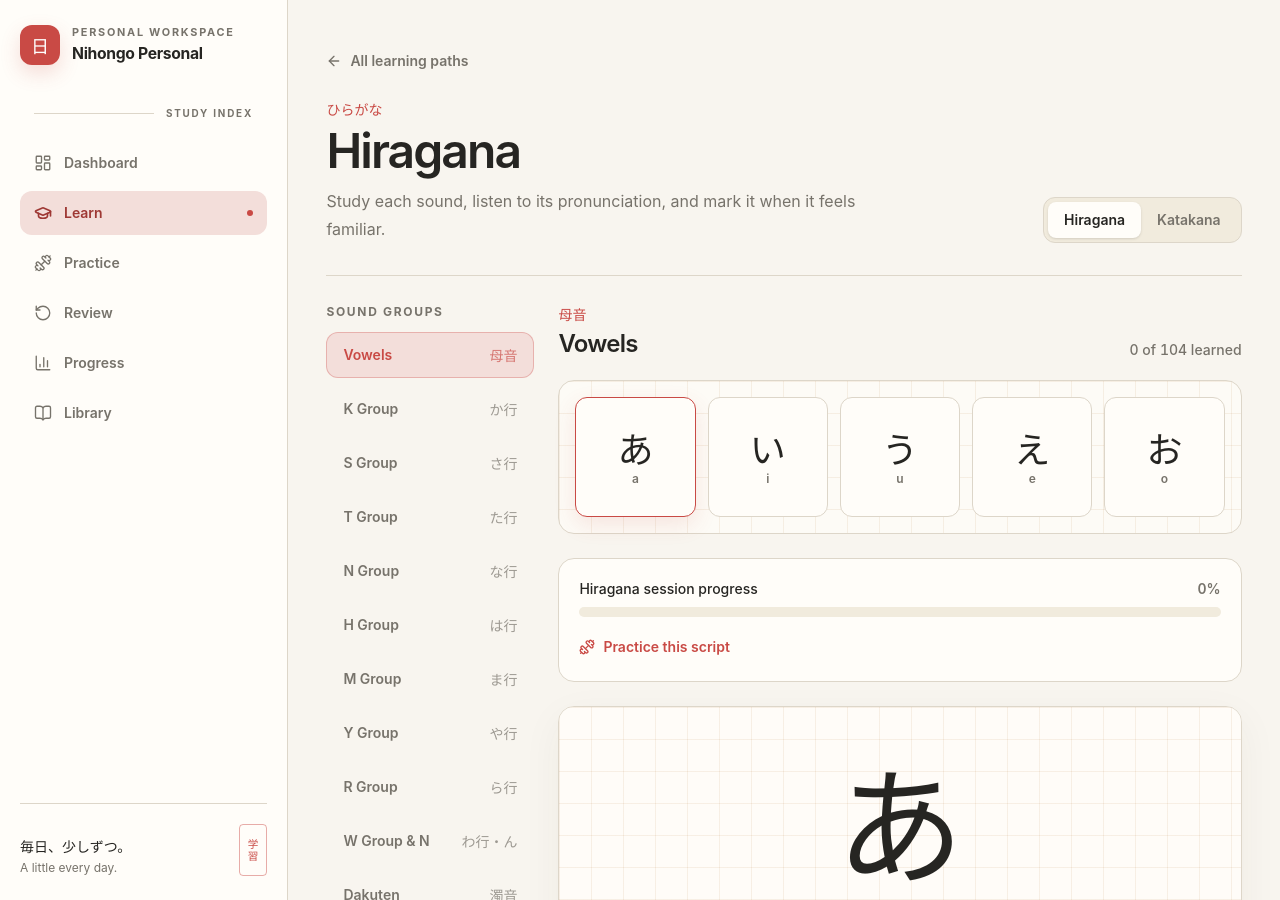
Test: Kana learning › changes group and selected character detail
Click the link "K Group か行" at (371, 409), box top-left (343, 399), bottom-right (517, 419)
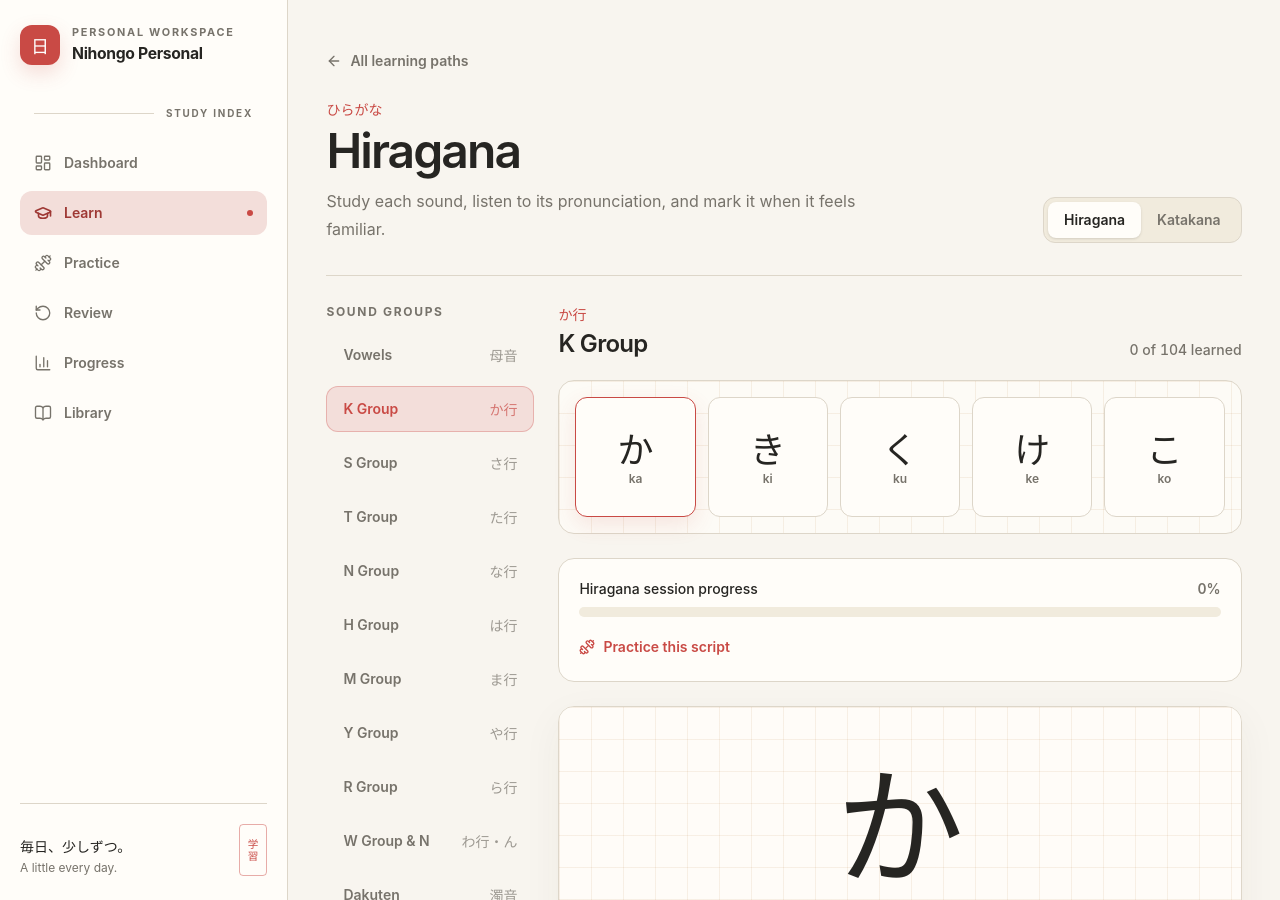
expect the heading "K Group" is shown: met, box top-left (558, 328), bottom-right (648, 360)
Click the button with aria-label "き, ki" at (768, 457), box top-left (708, 397), bottom-right (828, 518)
(page scrolled)
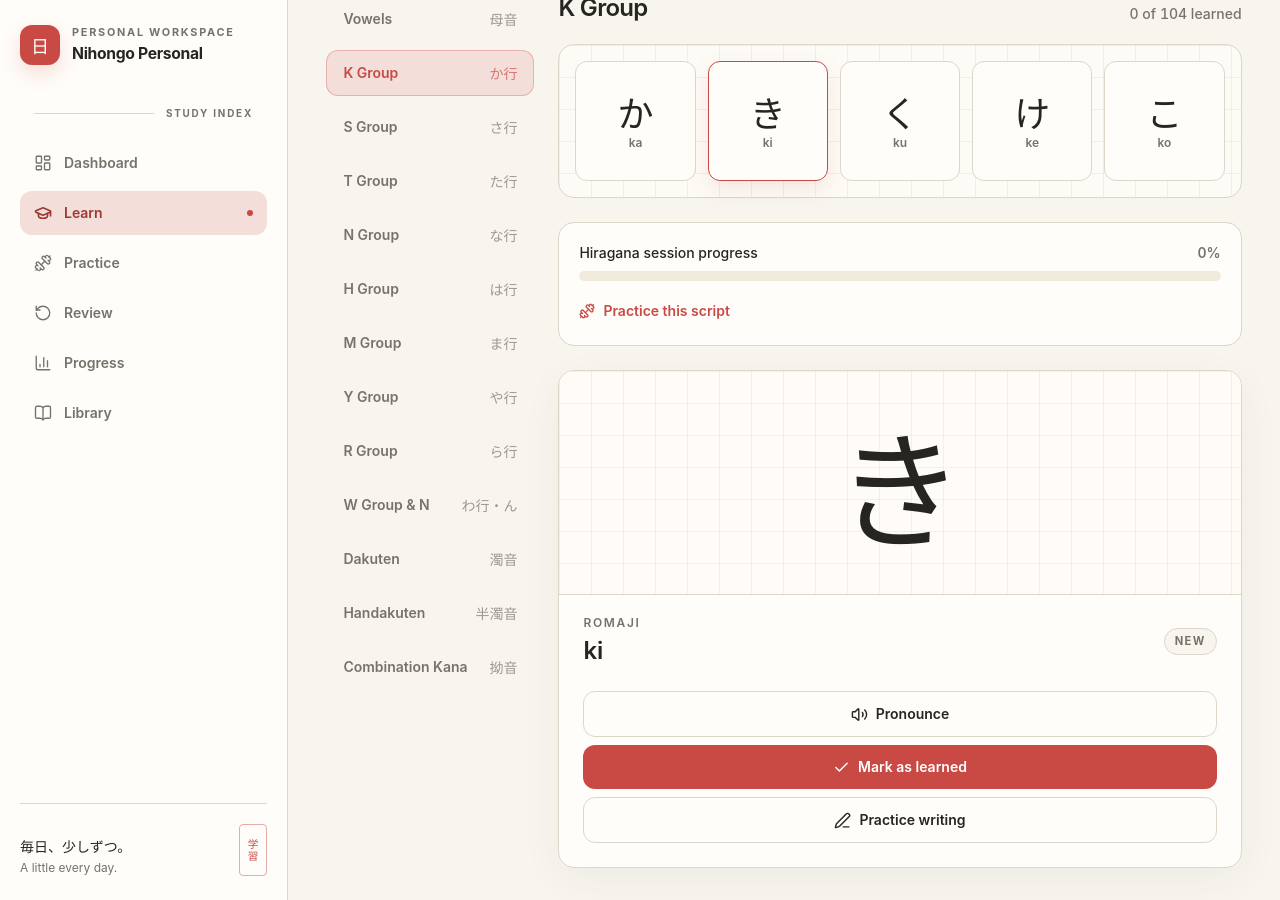
expect the element named "Character detail" shows "き": met, box top-left (836, 390), bottom-right (964, 575)
expect the element named "Character detail" shows "ki": met, box top-left (583, 636), bottom-right (603, 665)
